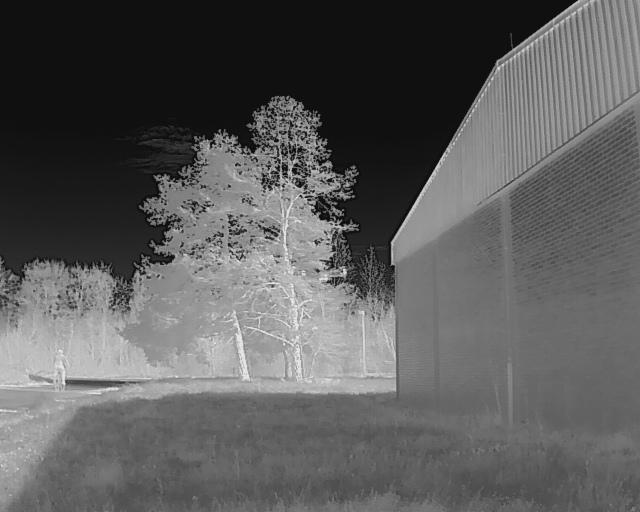drone: (290, 253, 357, 298)
